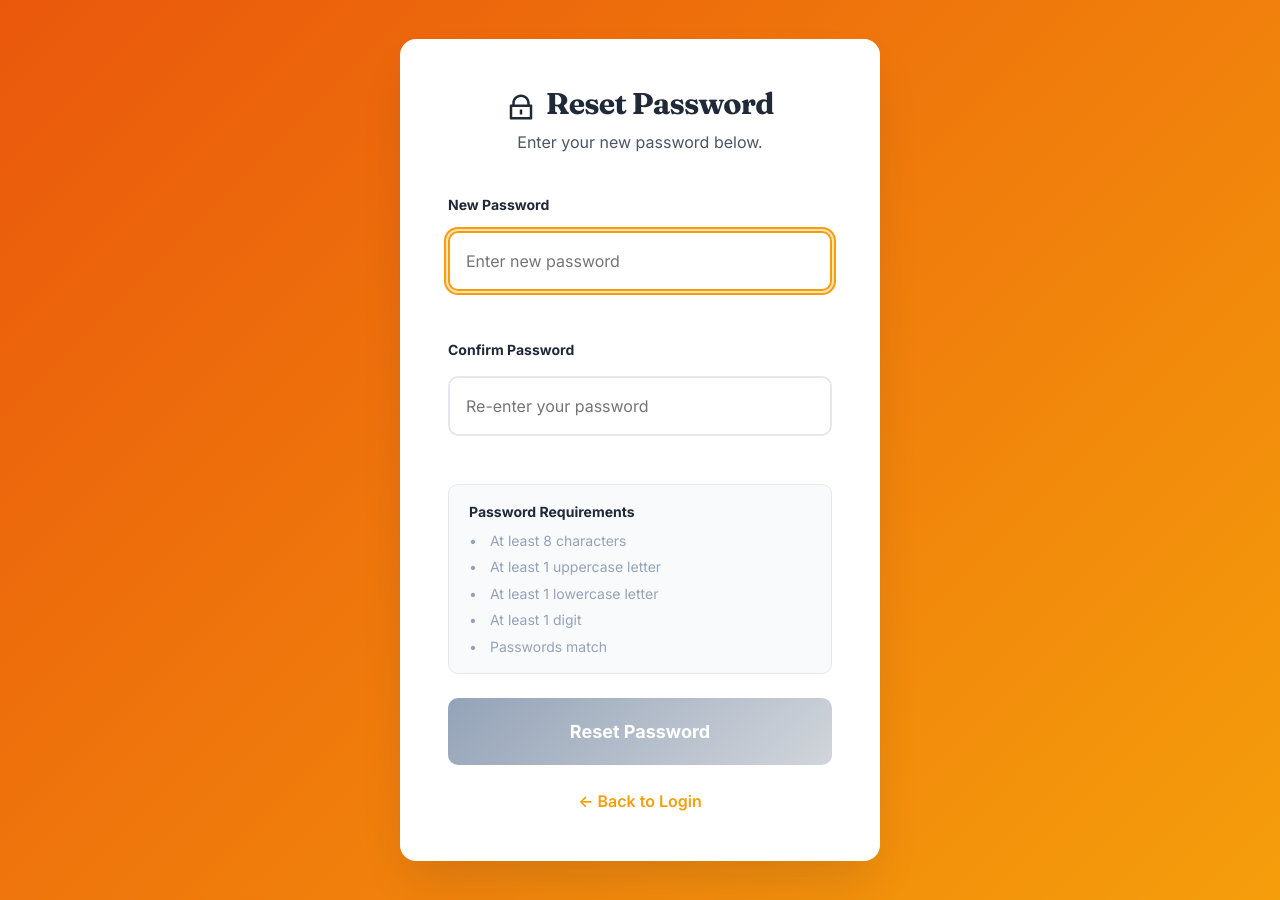
Scenario: ResetPassword › enables submit when all requirements met
Type "ValidPass1" into the password field with test id "reset-password-password" at [640, 261], box [448,231,832,291]
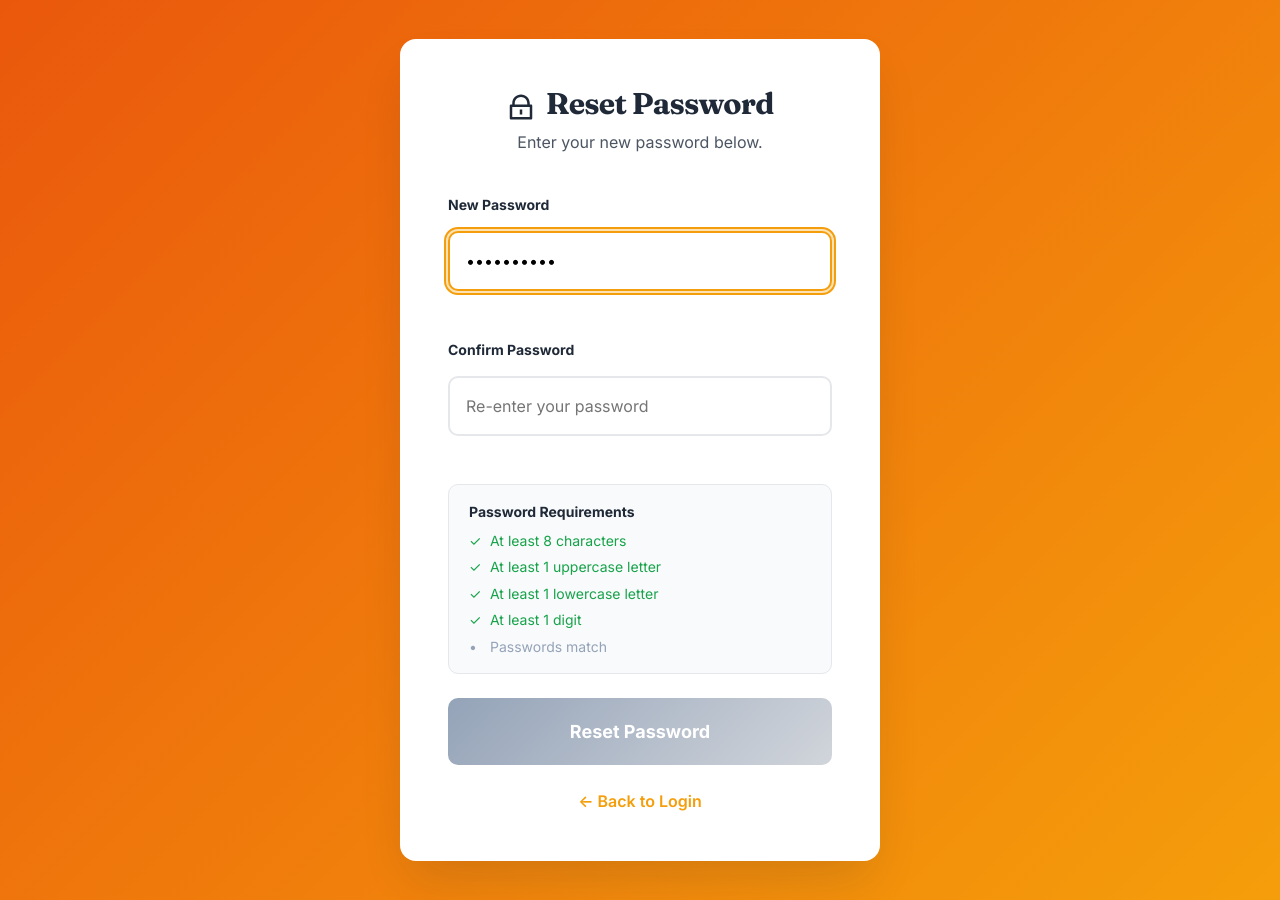
Type "ValidPass1" into the password field with test id "reset-password-confirm" at [640, 406], box [448,376,832,436]
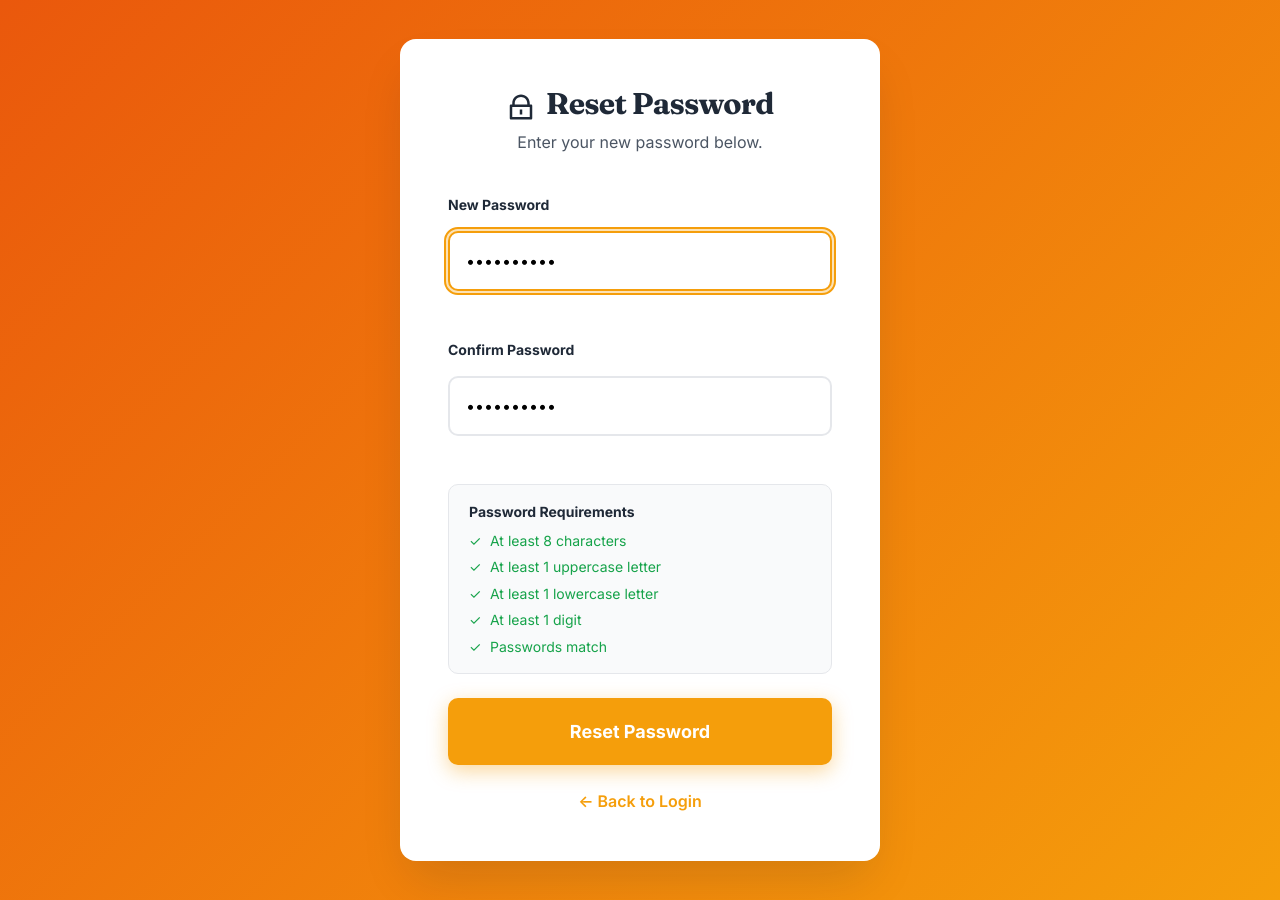
Expected: the button with test id "reset-password-submit" is enabled, [448,698,832,765]
